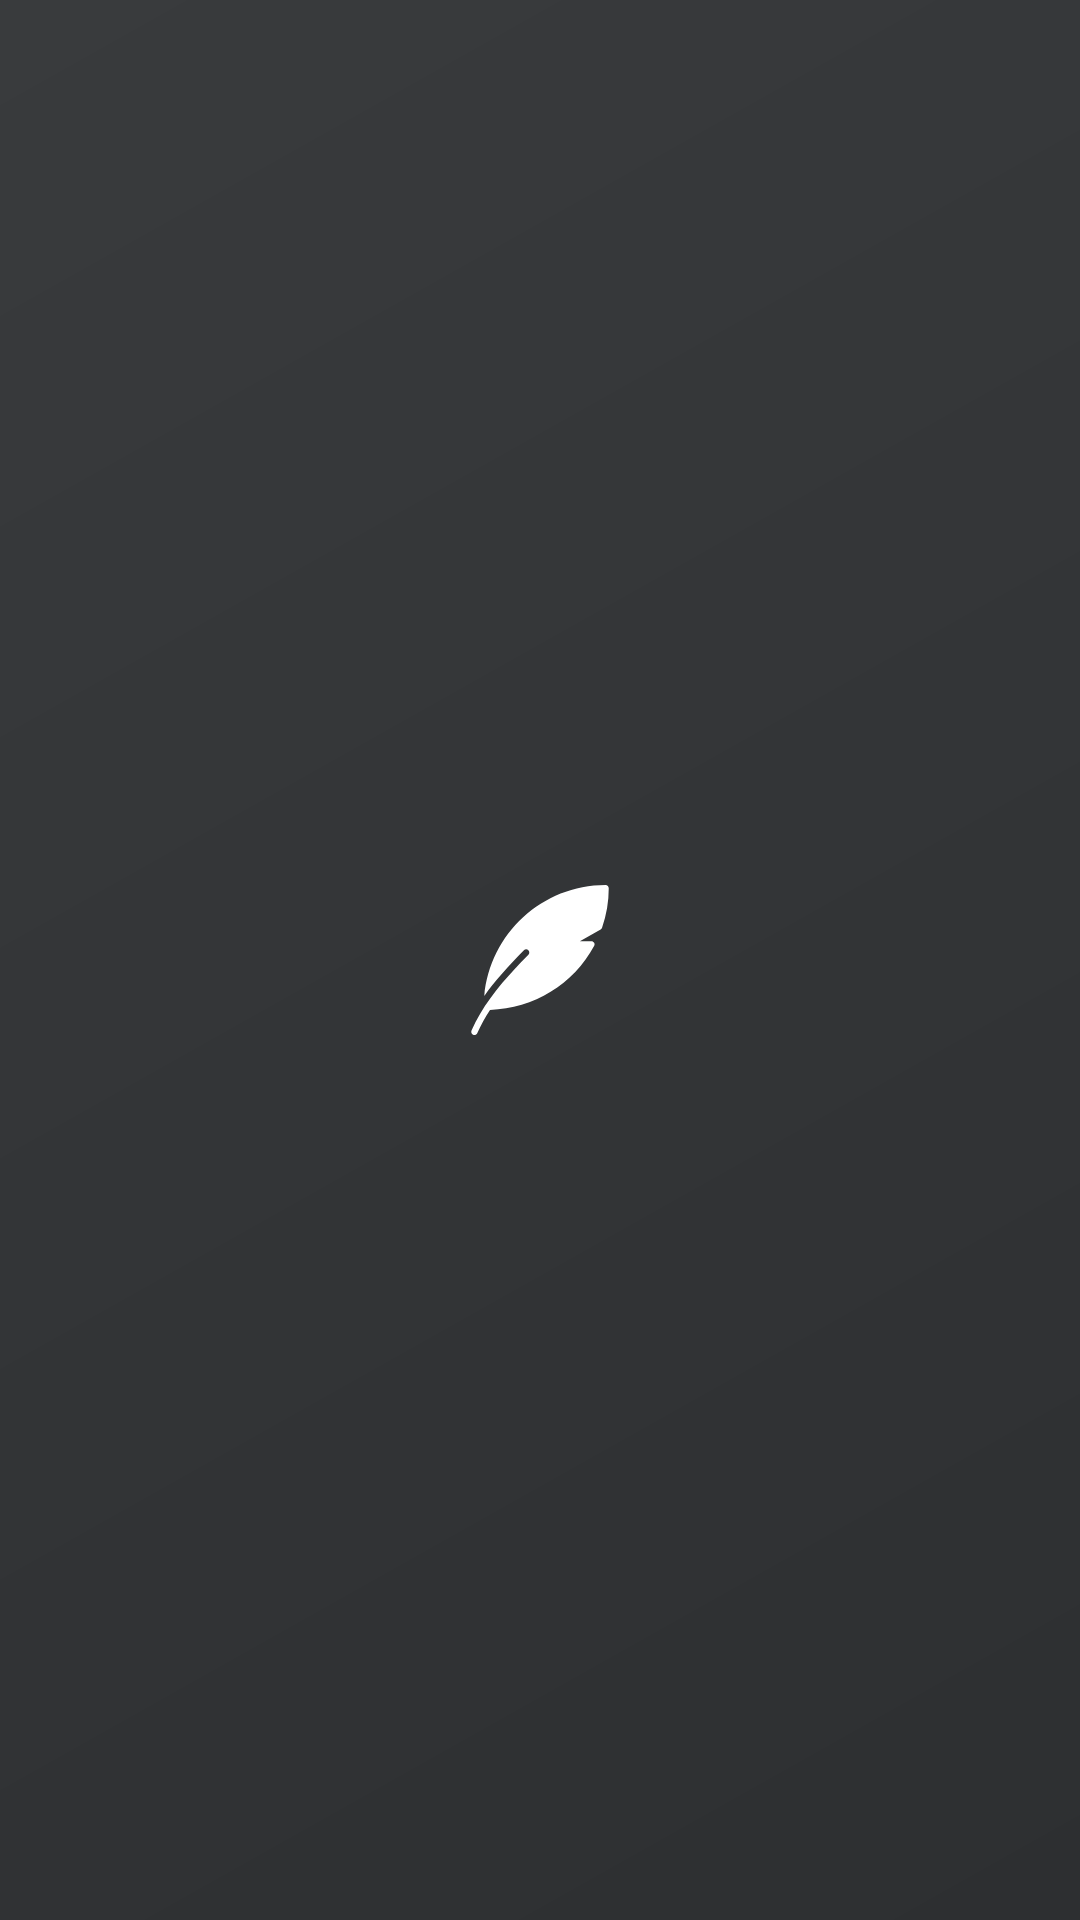

Named icons in this screenshot (1080w x 1920h) and their centers, [x,y]:
quill: [540,960]
